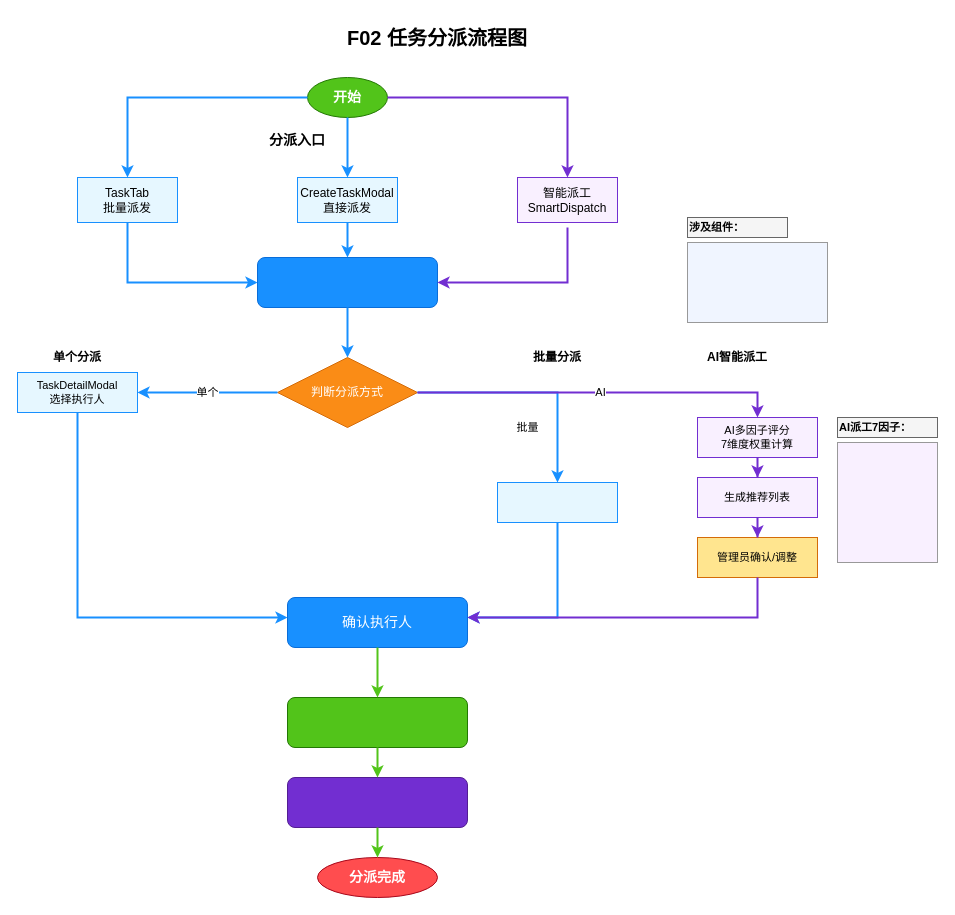
Image size: 955x915. Some labels were removed from this diagram. The centre of each missing label's shape, as x and y in pixels:
BatchDispatchModal 选择执行人: the point at 557,502
TaskTab TaskDetailModal BatchDispatchModal SmartDispatchPage useTasks: the point at 757,282
技能匹配 30% 位置距离 20% 工作负荷 20% 历史表现 15% 紧急程度 10% 批次熟悉 3% 天气因素 5%: the point at 887,502
更新任务状态 draft/rejected → pending: the point at 377,722
记录操作日志 TaskRecord: the point at 377,802
选择任务 （勾选要分派的任务）: the point at 347,282
